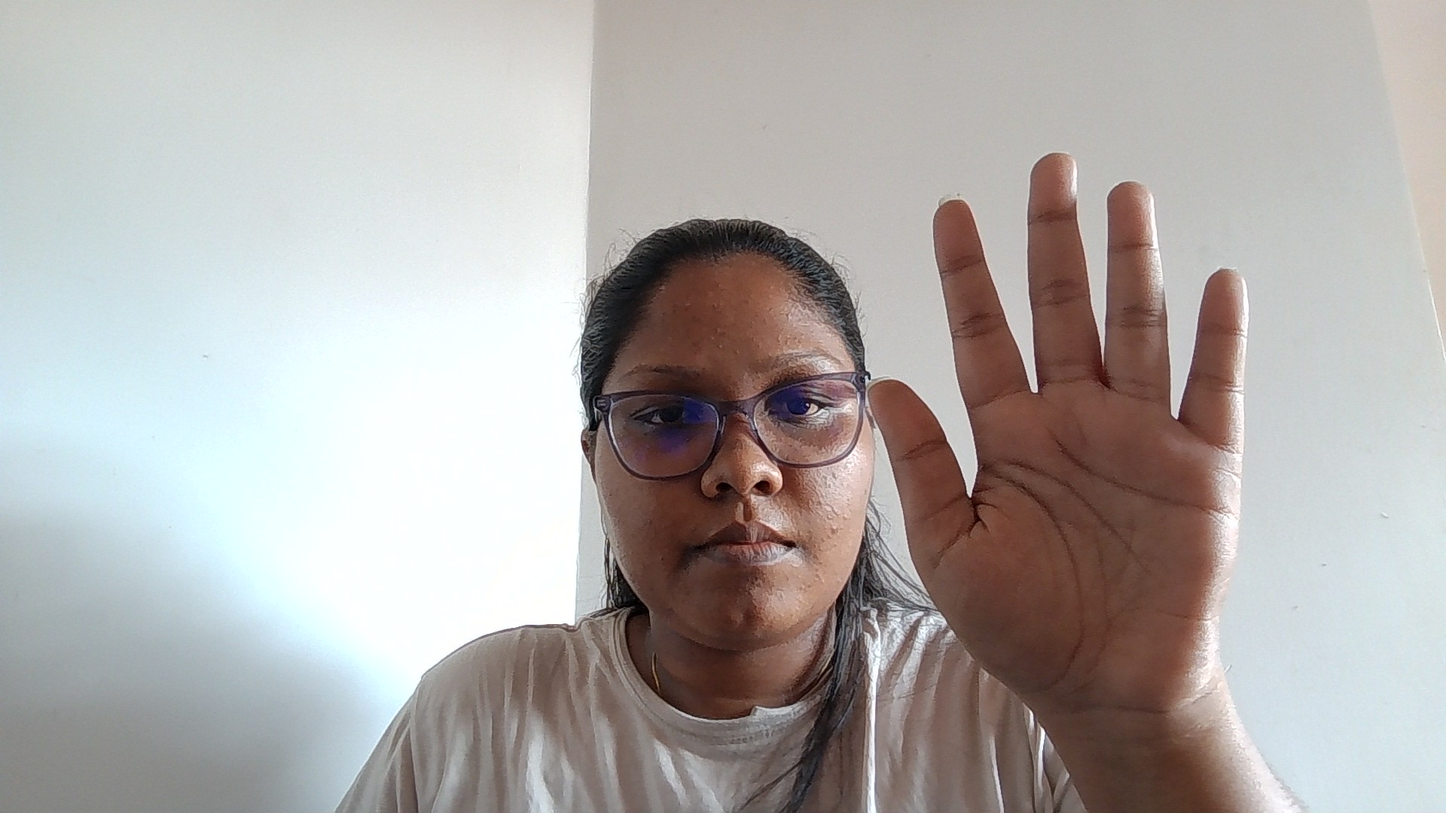Hello: (791, 122, 1348, 715)
